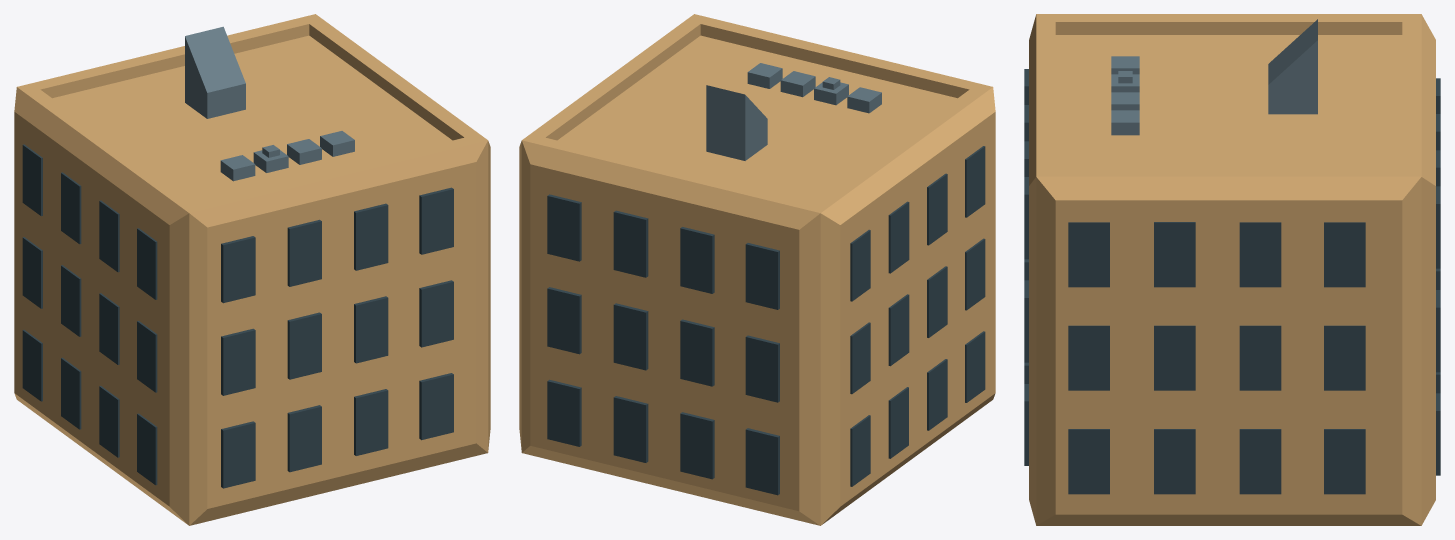
3 renders of one model, left to right at view 1: azimuth 30°, elevation 25°; view 2: azimuth 150°, elevation 25°; view 3: azimuth 270°, elevation 25°, orthographic. The views are drawn at different scales.
Visible parts, largest first — view 1: node_MeshObject-901816000-PolyPaper17; view 2: node_MeshObject-901816000-PolyPaper17; view 3: node_MeshObject-901816000-PolyPaper17.
Part boxes in pixels (left/top/right/bottom): node_MeshObject-901816000-PolyPaper17: left=14, top=14, right=490, bottom=525; node_MeshObject-901816000-PolyPaper17: left=519, top=14, right=995, bottom=525; node_MeshObject-901816000-PolyPaper17: left=1024, top=14, right=1440, bottom=525.
Bounding box in the file's own units: 0.5851 × 0.6351 × 0.5834.
